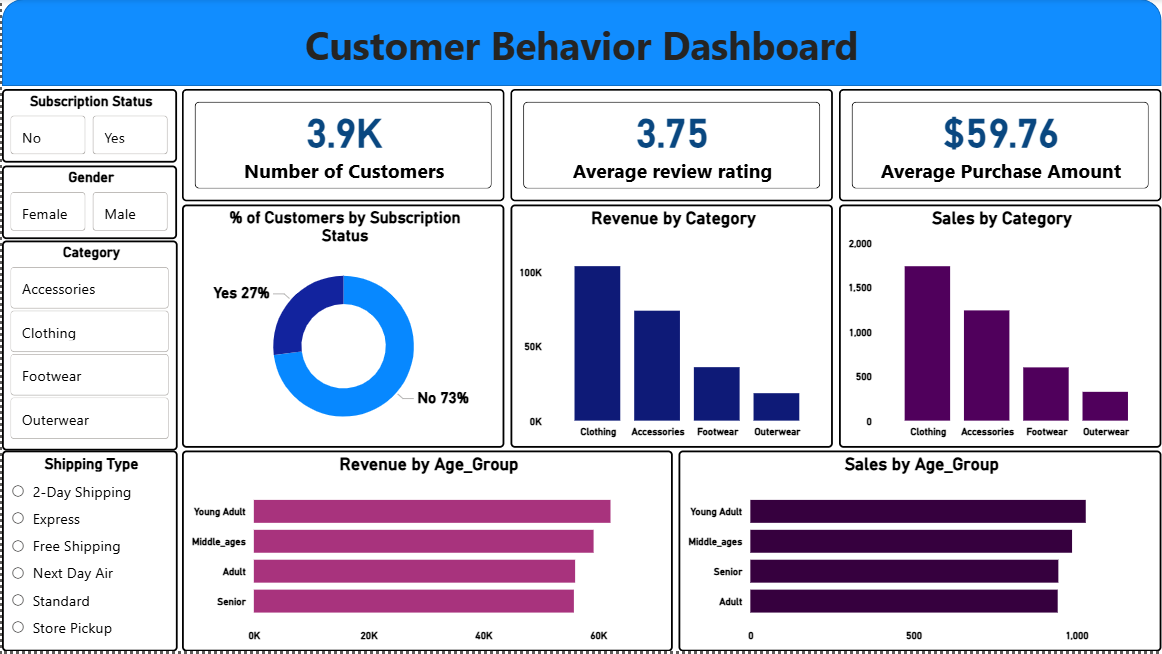

What the dashboard file says about the page in this screenshot:
{"tool":"powerbi","page":{"name":"Page 1","canvas":[1280,720],"ordinal":0},"visuals":[{"type":"cardVisual","fields":{"Data":["cust shop.Number of Customers"]},"box":[199,99.9,356.1,124.2],"z":0},{"type":"cardVisual","fields":{"Data":["cust shop.Average review rating"]},"box":[561,99.9,356.1,124.2],"z":1000},{"type":"cardVisual","fields":{"Data":["cust shop.Average Purchase Amount"]},"box":[924.3,99.9,356.1,124.2],"z":2000},{"type":"shape","box":[0,0,1280.5,96.1],"z":3000},{"type":"textbox","box":[0,16.6,1280.5,79.5],"z":4000},{"type":"donutChart","title":"% of Customers by Subscription Status","fields":{"Category":["cust shop.subscription_status"],"Y":["CountNonNull(cust shop.customer_id)"]},"box":[199,227,356.1,268.3],"z":5000},{"type":"clusteredColumnChart","title":"Revenue by Category","fields":{"Y":["Sum(cust shop.purchase_amount)"],"Category":["cust shop.category"]},"box":[561,227,356.1,268.3],"z":6000},{"type":"clusteredColumnChart","title":"Sales by Category","fields":{"Category":["cust shop.category"],"Y":["CountNonNull(cust shop.customer_id)"]},"box":[924.3,227,356.1,268.3],"z":7000},{"type":"advancedSlicerVisual","fields":{"Values":["cust shop.subscription_status"]},"box":[0,99.4,193,81],"z":8000},{"type":"advancedSlicerVisual","fields":{"Values":["cust shop.gender"]},"box":[0,183.9,193,81],"z":9000},{"type":"advancedSlicerVisual","fields":{"Values":["cust shop.category"]},"box":[0,266.7,193.8,231.9],"z":10000},{"type":"listSlicer","fields":{"Values":["cust shop.shipping_type"]},"box":[0,498.6,193.8,222],"z":11000},{"type":"clusteredBarChart","title":"Revenue by Age_Group","fields":{"Y":["Sum(cust shop.purchase_amount)"],"Category":["cust shop.age_group"]},"box":[198.8,498.6,541.7,222],"z":12000},{"type":"clusteredBarChart","title":"Sales by Age_Group","fields":{"Category":["cust shop.age_group"],"Y":["CountNonNull(cust shop.customer_id)"]},"box":[747.1,498.6,533.4,222],"z":12001}]}

Visuals, with their boxes in screenshot pixels (x1, y1, x2, y2), scaled from the page's 1280x720 canvas onto the 1162x654 screenshot:
cardVisual - cust shop.Number of Customers: region(181, 91, 504, 204)
cardVisual - cust shop.Average review rating: region(509, 91, 833, 204)
cardVisual - cust shop.Average Purchase Amount: region(839, 91, 1161, 204)
shape: region(0, 0, 1161, 87)
textbox: region(0, 15, 1161, 87)
"% of Customers by Subscription Status" donutChart: region(181, 206, 504, 450)
"Revenue by Category" clusteredColumnChart: region(509, 206, 833, 450)
"Sales by Category" clusteredColumnChart: region(839, 206, 1161, 450)
advancedSlicerVisual - cust shop.subscription_status: region(0, 90, 175, 164)
advancedSlicerVisual - cust shop.gender: region(0, 167, 175, 241)
advancedSlicerVisual - cust shop.category: region(0, 242, 176, 453)
listSlicer - cust shop.shipping_type: region(0, 453, 176, 653)
"Revenue by Age_Group" clusteredBarChart: region(180, 453, 672, 653)
"Sales by Age_Group" clusteredBarChart: region(678, 453, 1161, 653)
